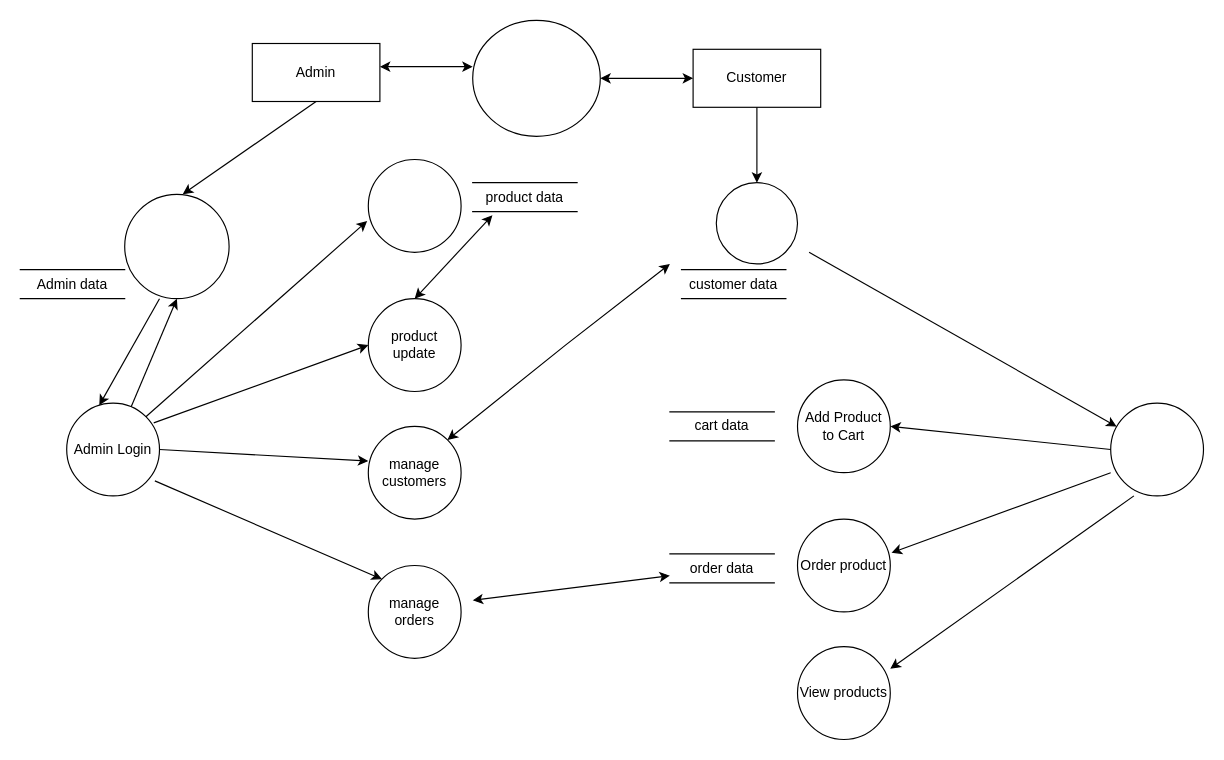
The diagram is 1224 pixels wide and 760 high, and some of its shapes have lost their labels. The shapes that lost their labels are listed below. From the top down, each one's box as (x1, y1, x2, y2) in pixels, then its label:
(472, 19, 600, 136): Online Cloth Shopping
(367, 158, 461, 252): Product Add
(715, 182, 798, 264): Customer Register
(124, 193, 229, 299): Admin Register
(1110, 402, 1204, 496): Customer Login
